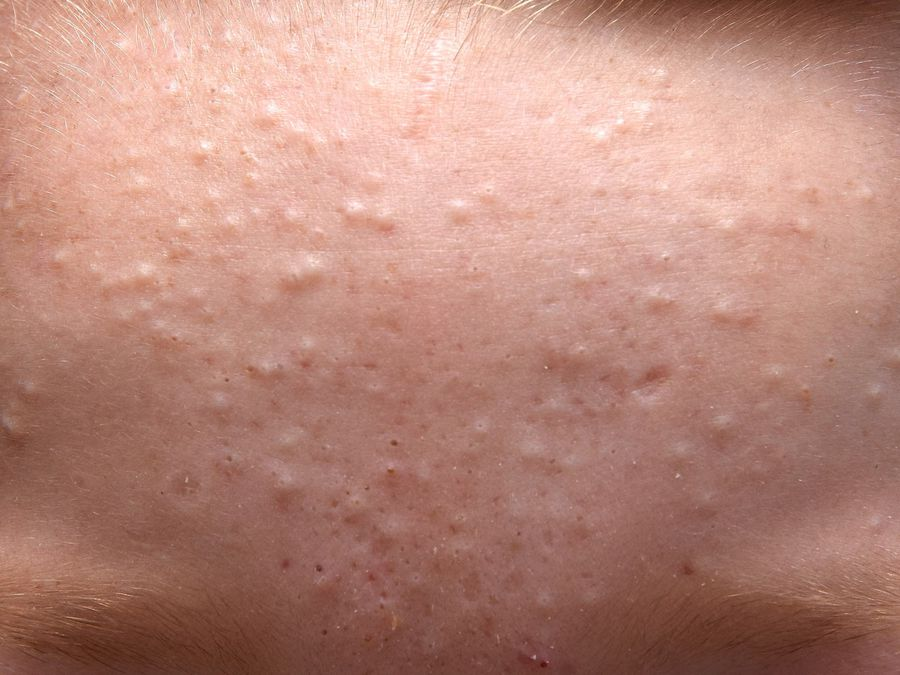jerawat: (1, 96, 900, 670)
